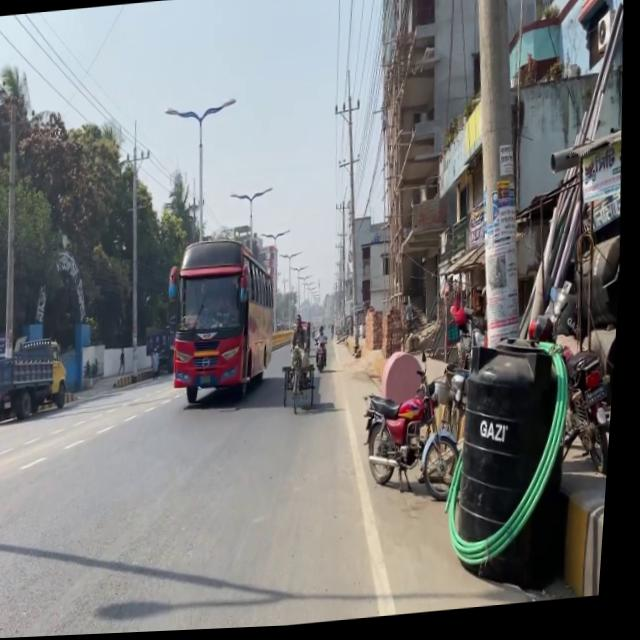Construction-barrier: (559, 470, 614, 603), (275, 330, 300, 354)
Downstairs: (440, 335, 588, 603)
Fallen-tree: (523, 307, 623, 488), (558, 350, 621, 486), (292, 345, 319, 396)
Garbage-bin: (317, 328, 335, 376)
Light-pole: (455, 0, 545, 354)
Pothole: (317, 316, 568, 625)
Traffic-cone: (152, 220, 298, 435), (0, 335, 77, 427)
